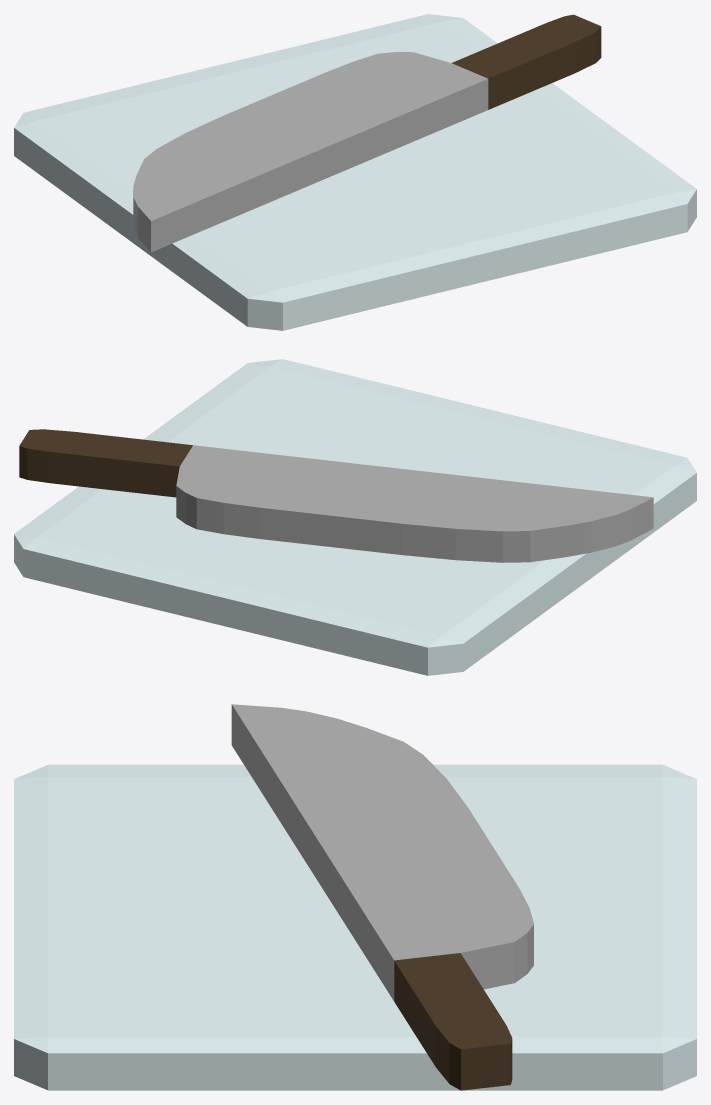
The model's file is boardAndKnife.fbx.
3 views of the same model, one above another, from view 1: azimuth 30°, elevation 25°; view 2: azimuth 150°, elevation 25°; view 3: azimuth 270°, elevation 25° (orthographic). The views are drawn at different scales.
Visible parts, largest first — view 1: Cube.003, Cube.006; view 2: Cube.003, Cube.006; view 3: Cube.003, Cube.006.
Boxes of the visible parts, x1=… form: Cube.003: x1=14, y1=14, x2=696, y2=330; Cube.006: x1=133, y1=14, x2=601, y2=252; Cube.003: x1=14, y1=359, x2=696, y2=675; Cube.006: x1=19, y1=429, x2=653, y2=562; Cube.003: x1=14, y1=764, x2=696, y2=1090; Cube.006: x1=231, y1=704, x2=533, y2=1090.
Size of the model in its own units: 71.74 by 8 by 60.
